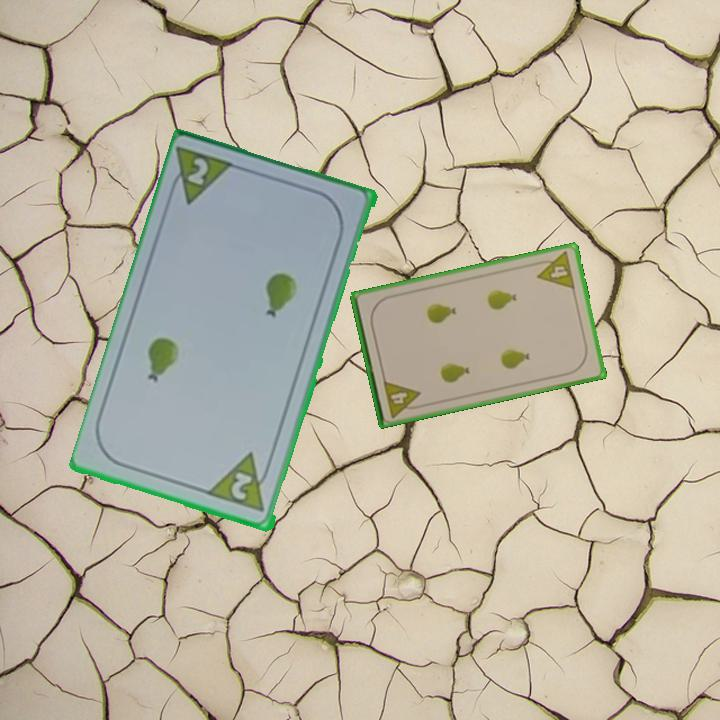2p: (227, 468, 256, 504), (184, 154, 212, 189)
4p: (531, 248, 578, 292), (380, 376, 425, 420)
